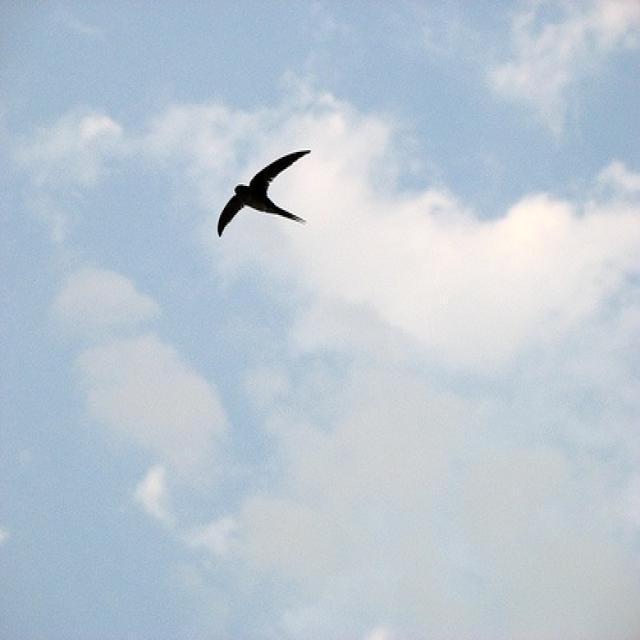bird: (212, 144, 312, 238)
